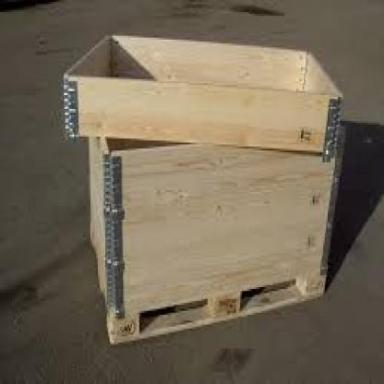pallet: (106, 265, 326, 345), (140, 299, 207, 328), (240, 278, 297, 299)
